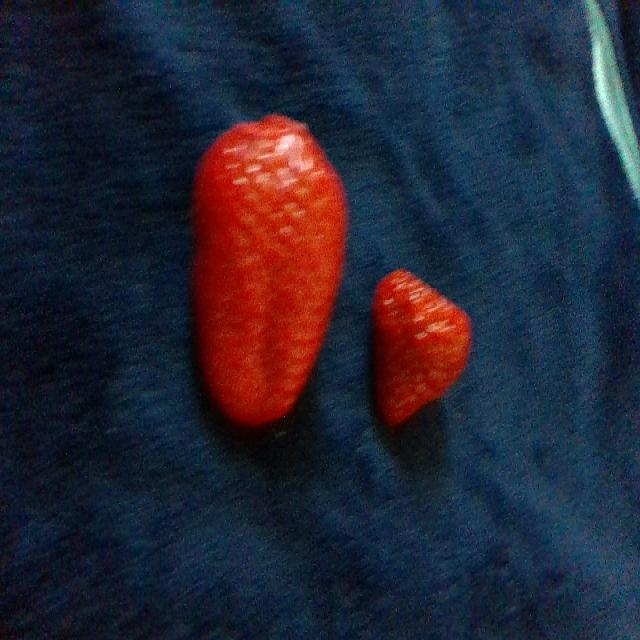chica_roja: (374, 269, 470, 423)
grande_roja: (194, 116, 346, 424)
